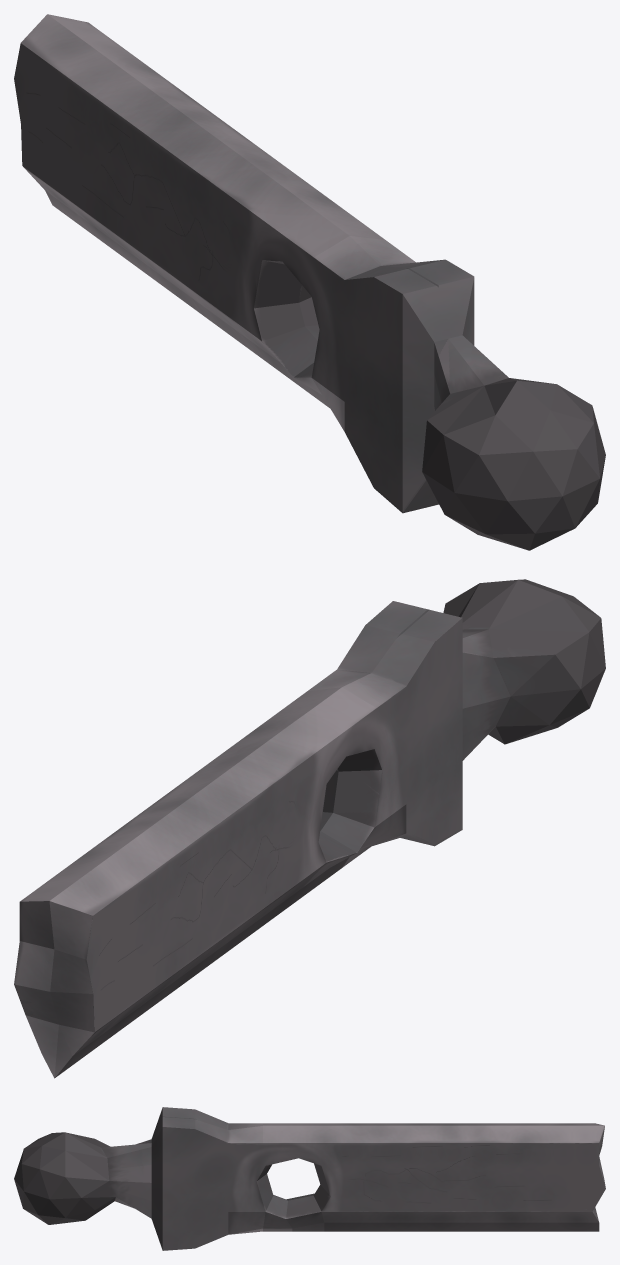
The model's file is SwordArm.glb.
The picture shows the model from 3 angles, top to bottom: view 1: azimuth 30°, elevation 25°; view 2: azimuth 150°, elevation 25°; view 3: azimuth 270°, elevation 25°; orthographic projection. The views are drawn at different scales.
Parts seen in each view (by area): view 1: SwordArm; view 2: SwordArm; view 3: SwordArm.
Part boxes in pixels (x1,y1,x2,y2): SwordArm: (14, 14, 605, 550); SwordArm: (14, 579, 605, 1078); SwordArm: (14, 1107, 605, 1250).
Bounding box in the file's own units: 1.14 × 1.54 × 6.65.
1 material, 1 textured.
